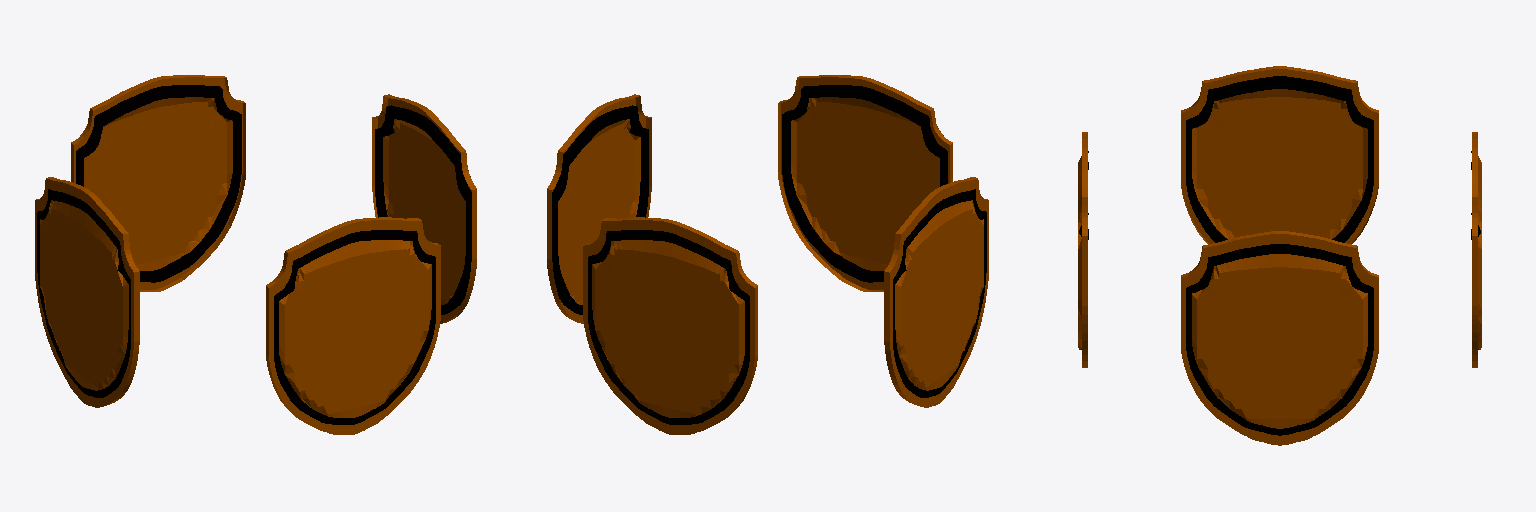
Rendered from sheildPowerUp.obj.
The picture shows the model from 3 angles: view 1: azimuth 30°, elevation 25°; view 2: azimuth 150°, elevation 25°; view 3: azimuth 270°, elevation 25°; orthographic projection.
Parts seen in each view (by area): view 1: Cube.001; view 2: Cube.001; view 3: Cube.001.
Boxes of the visible parts, x1,y1,x2,y2 form: Cube.001: [35, 75, 476, 434]; Cube.001: [547, 75, 988, 434]; Cube.001: [1078, 66, 1481, 445].
Bounding box in the file's own units: 3.58 × 2.08 × 3.58.